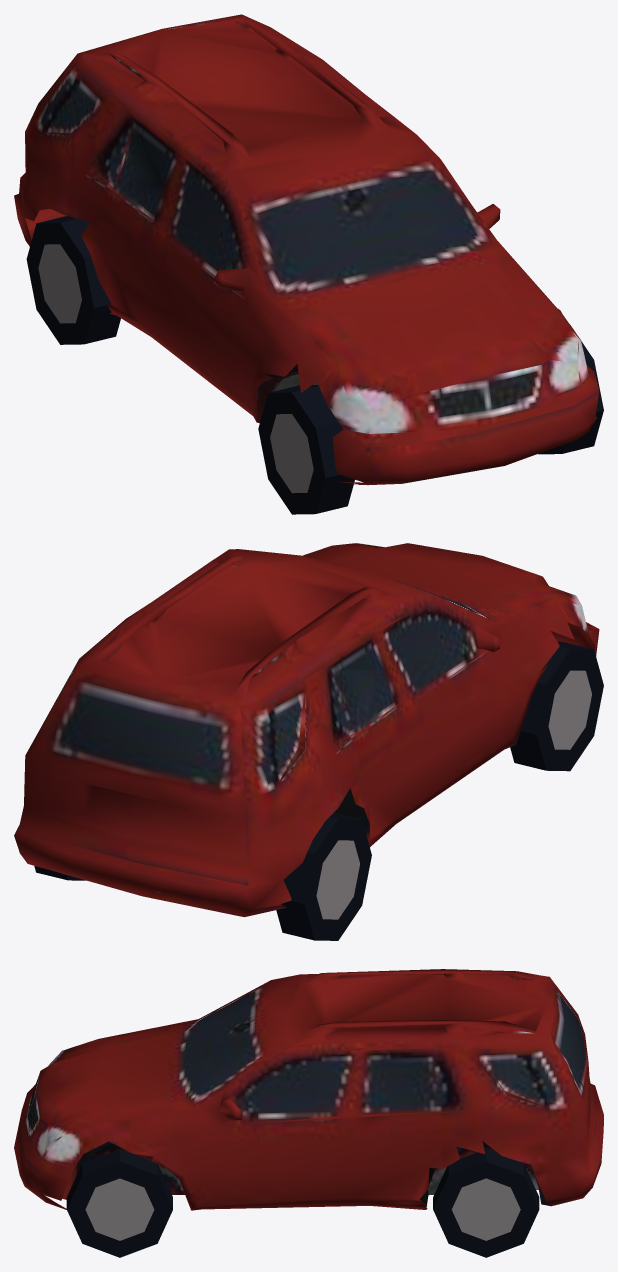
Rendered from suv-red-far.glb.
3 views of the same model, one above another, from view 1: azimuth 30°, elevation 25°; view 2: azimuth 150°, elevation 25°; view 3: azimuth 270°, elevation 25° (orthographic). The views are drawn at different scales.
Visible parts, largest first — view 1: suv-far; view 2: suv-far; view 3: suv-far.
Boxes of the visible parts, x1=… form: suv-far: x1=14, y1=14, x2=603, y2=514; suv-far: x1=14, y1=543, x2=603, y2=940; suv-far: x1=14, y1=969, x2=603, y2=1257.
Bounding box in the file's own units: 2.08 × 1.83 × 4.69.
Materials: 1 (1 with a texture image).
